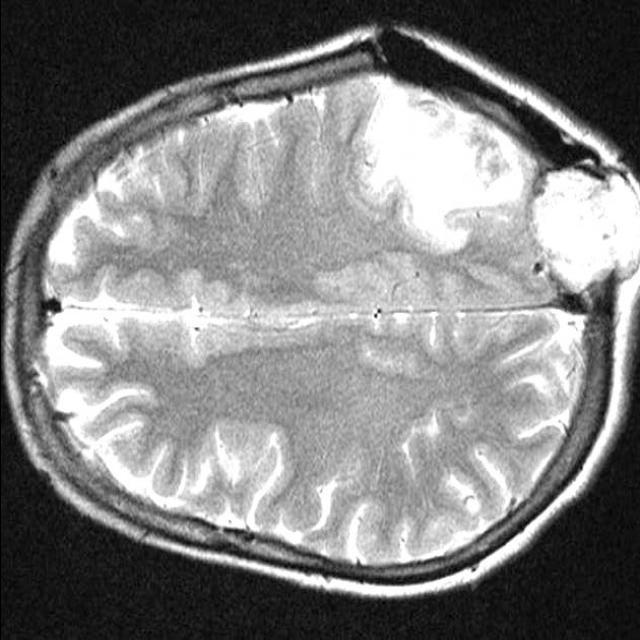tumor: (343, 80, 532, 254), (531, 169, 640, 294)
